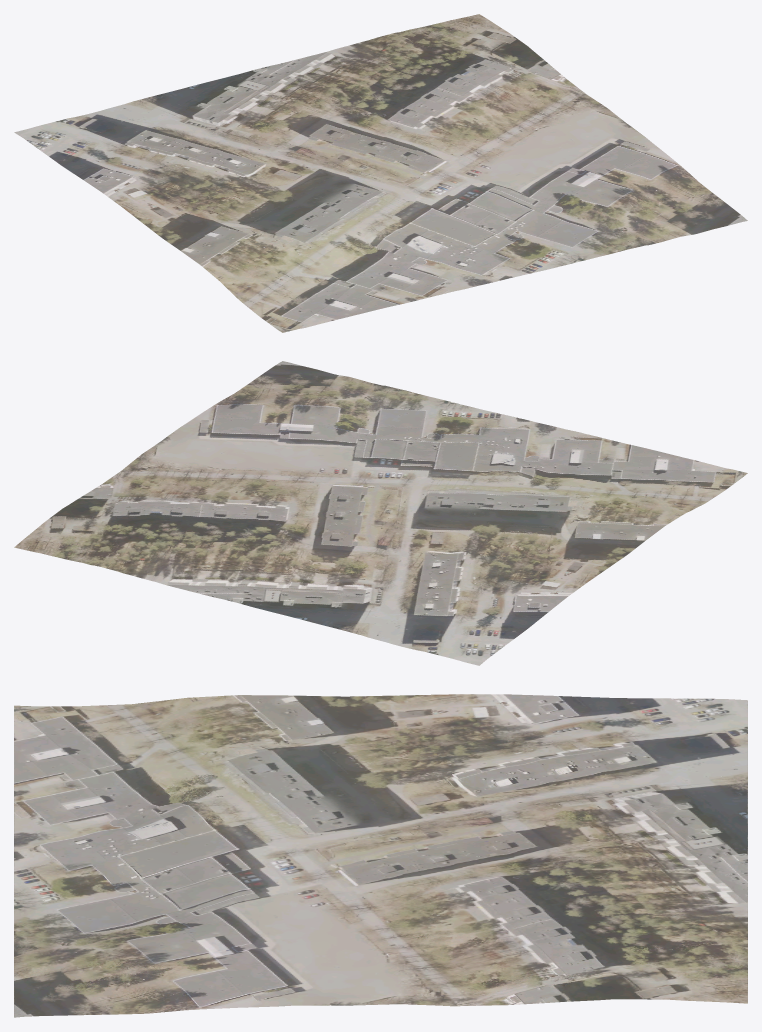
File: CM_Terrain_24491892_6814879.fbx
3 views of the same model, one above another, from view 1: azimuth 30°, elevation 25°; view 2: azimuth 150°, elevation 25°; view 3: azimuth 270°, elevation 25° (orthographic). The views are drawn at different scales.
Parts seen in each view (by area): view 1: CM_Terrain_24491892_6814879_LOD0; view 2: CM_Terrain_24491892_6814879_LOD0; view 3: CM_Terrain_24491892_6814879_LOD0.
Part boxes in pixels (left/top/right/bottom): CM_Terrain_24491892_6814879_LOD0: left=14, top=14, right=747, bottom=332; CM_Terrain_24491892_6814879_LOD0: left=14, top=361, right=747, bottom=665; CM_Terrain_24491892_6814879_LOD0: left=14, top=694, right=747, bottom=1017.
Size of what is drawn, in the model's own units: 205 by 7.56 by 205.
